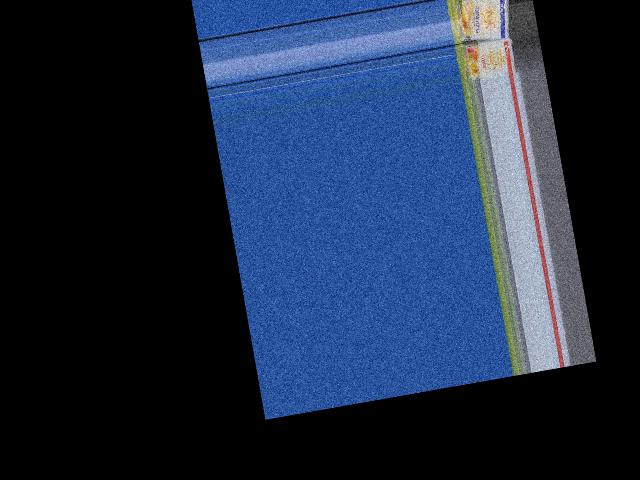cheese: (454, 36, 520, 84)
